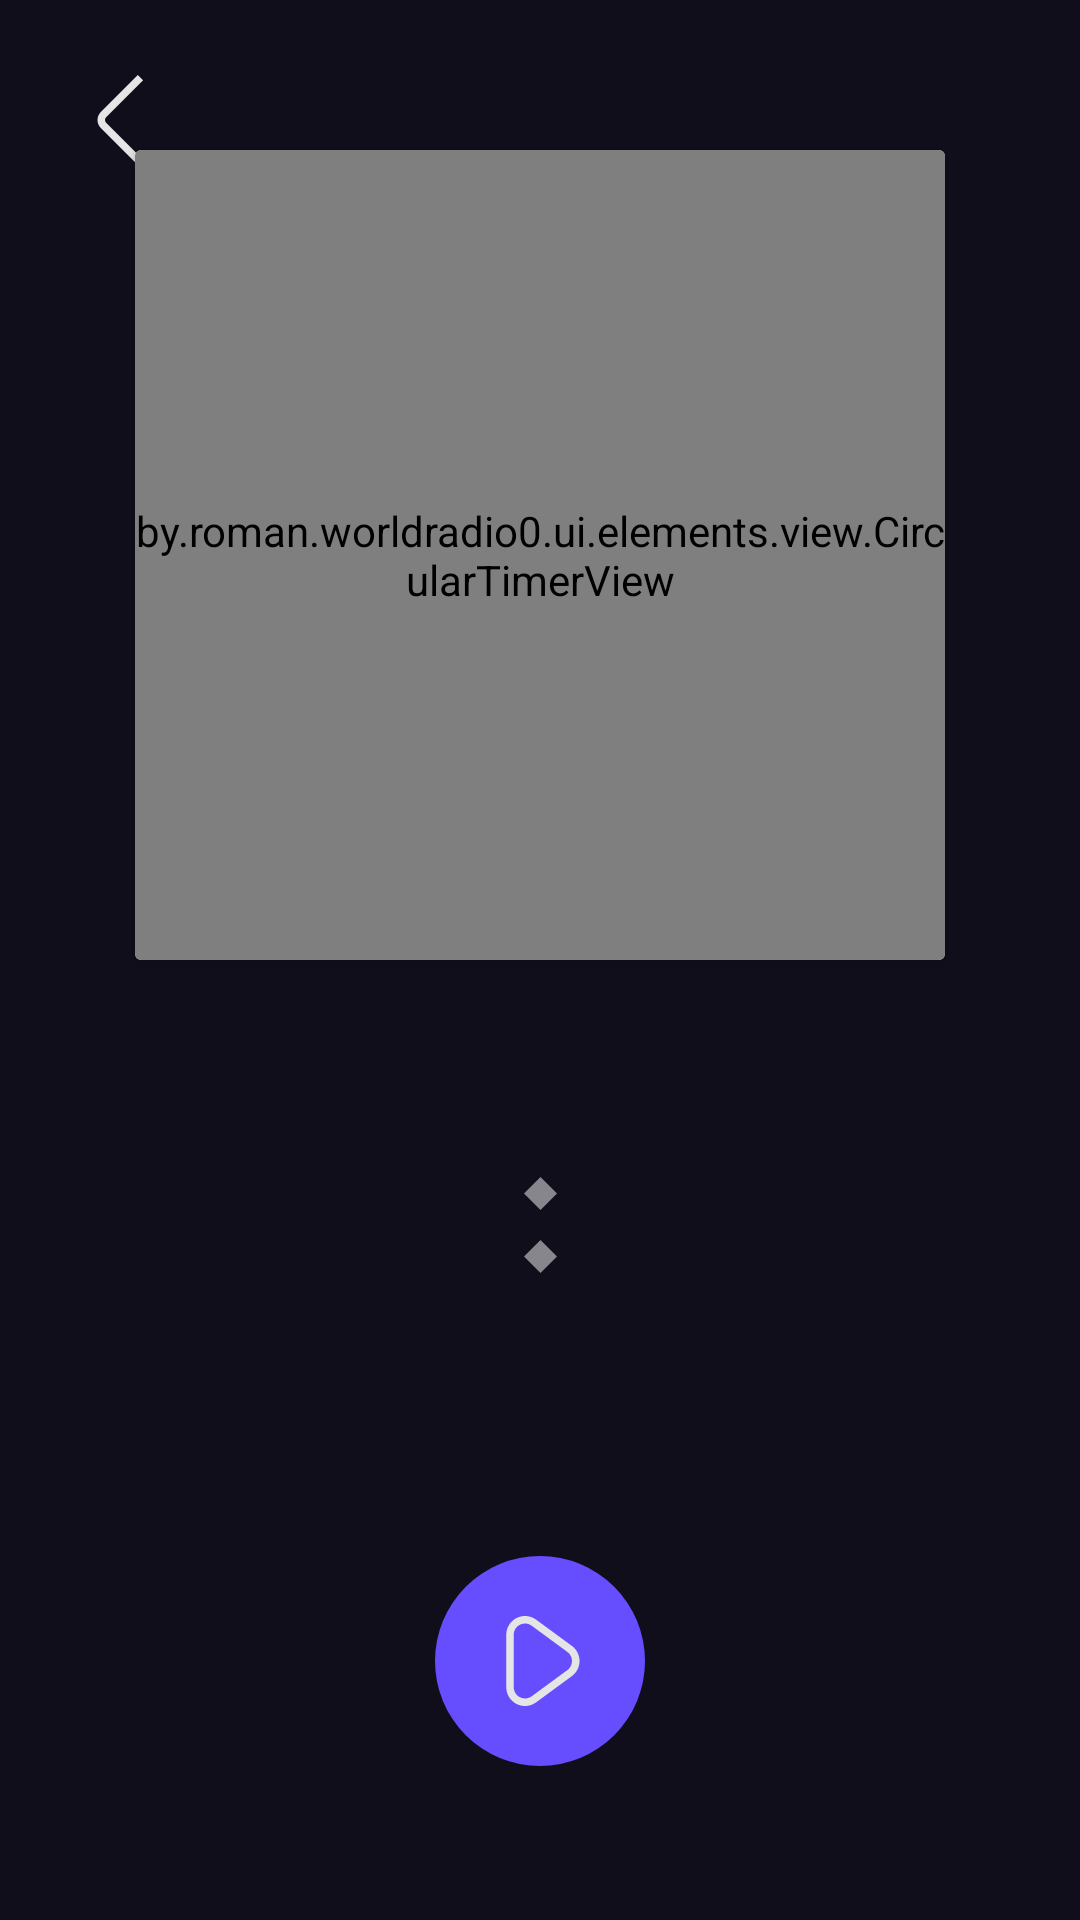

Icons on this 1080px x 1920px Android screen, each with the point to tap as (x=x, y=y):
playbutton: (x=540, y=1661)
romb: (x=540, y=1225)
